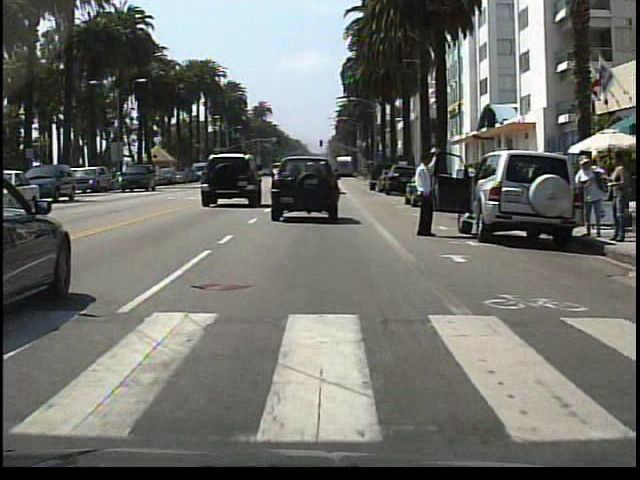person: (413, 147, 450, 249), (570, 148, 602, 243), (602, 145, 629, 247)
